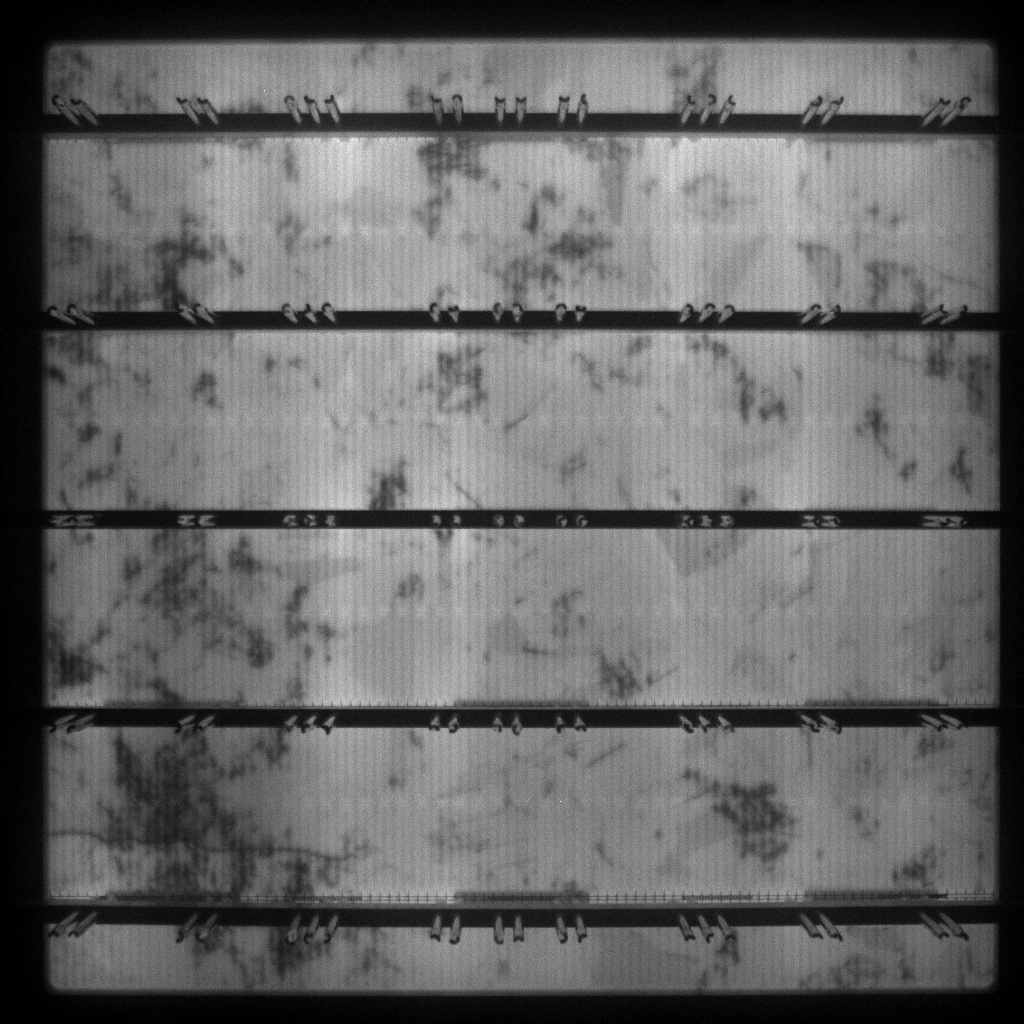crack: (274, 841, 358, 864), (51, 818, 105, 850)
